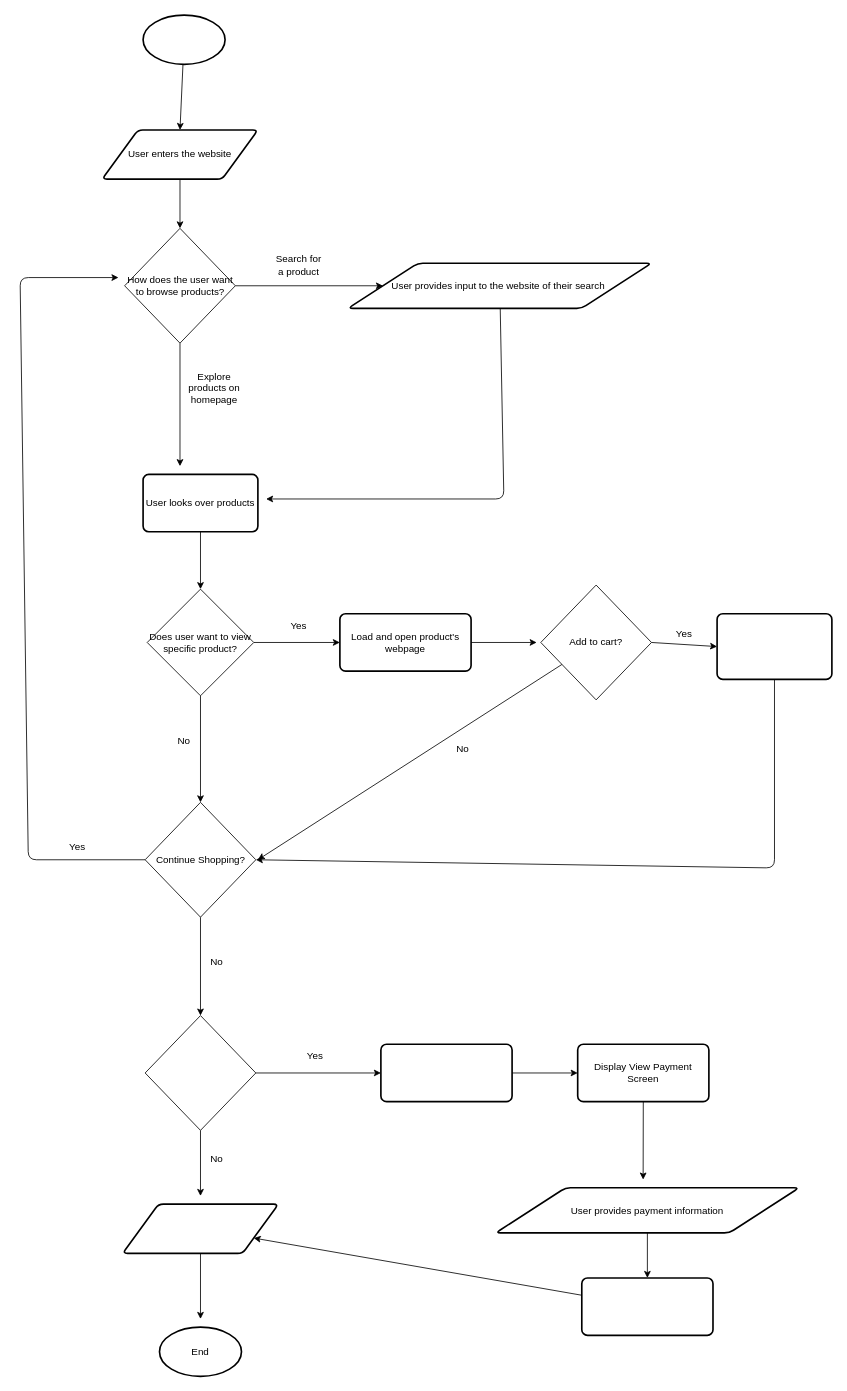
The diagram is 847 pixels wide and 1391 high, and some of its shapes have lost their labels. The box of each missing label's shape, as (x1, y1, x2, y2) in pixels:
Checkout?: (144, 1015, 256, 1130)
Display View Cart Screen: (380, 1043, 512, 1102)
Item added to cart. Provide user with added to cart confirmation.: (716, 613, 832, 680)
Order confirmation Send purchase information to user's email: (581, 1277, 713, 1336)
Start: (142, 14, 226, 65)
User leaves the website: (121, 1203, 279, 1254)
